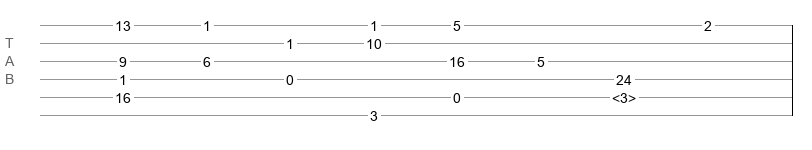0: (286, 72, 294, 82), (453, 90, 461, 100)
1: (119, 72, 127, 82), (203, 18, 211, 28), (286, 36, 294, 46), (370, 18, 378, 28)
10: (366, 36, 382, 46)
13: (115, 18, 131, 28)
16: (115, 90, 131, 100), (449, 54, 465, 64)
2: (704, 18, 712, 28)
24: (616, 72, 632, 82)
3: (370, 108, 378, 118)
5: (453, 18, 461, 28), (537, 54, 545, 64)
6: (203, 54, 211, 64)
9: (119, 54, 127, 64)
harmonic: (612, 90, 636, 100)
